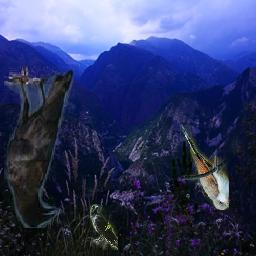Crow: (4, 66, 74, 228), (90, 204, 118, 250)
Cuckoo: (181, 124, 230, 210)
